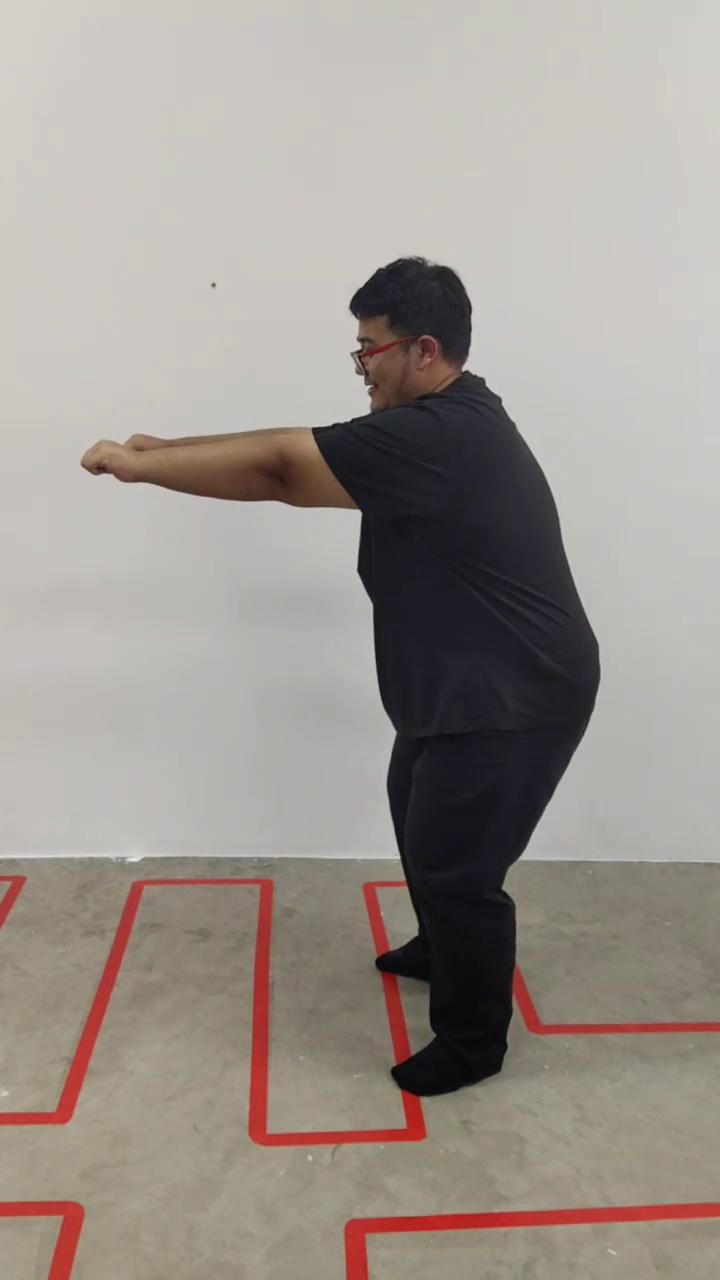squat up: (81, 255, 600, 1098)
